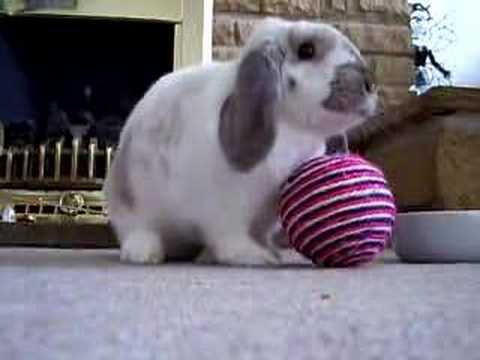bunny: (95, 5, 395, 283)
